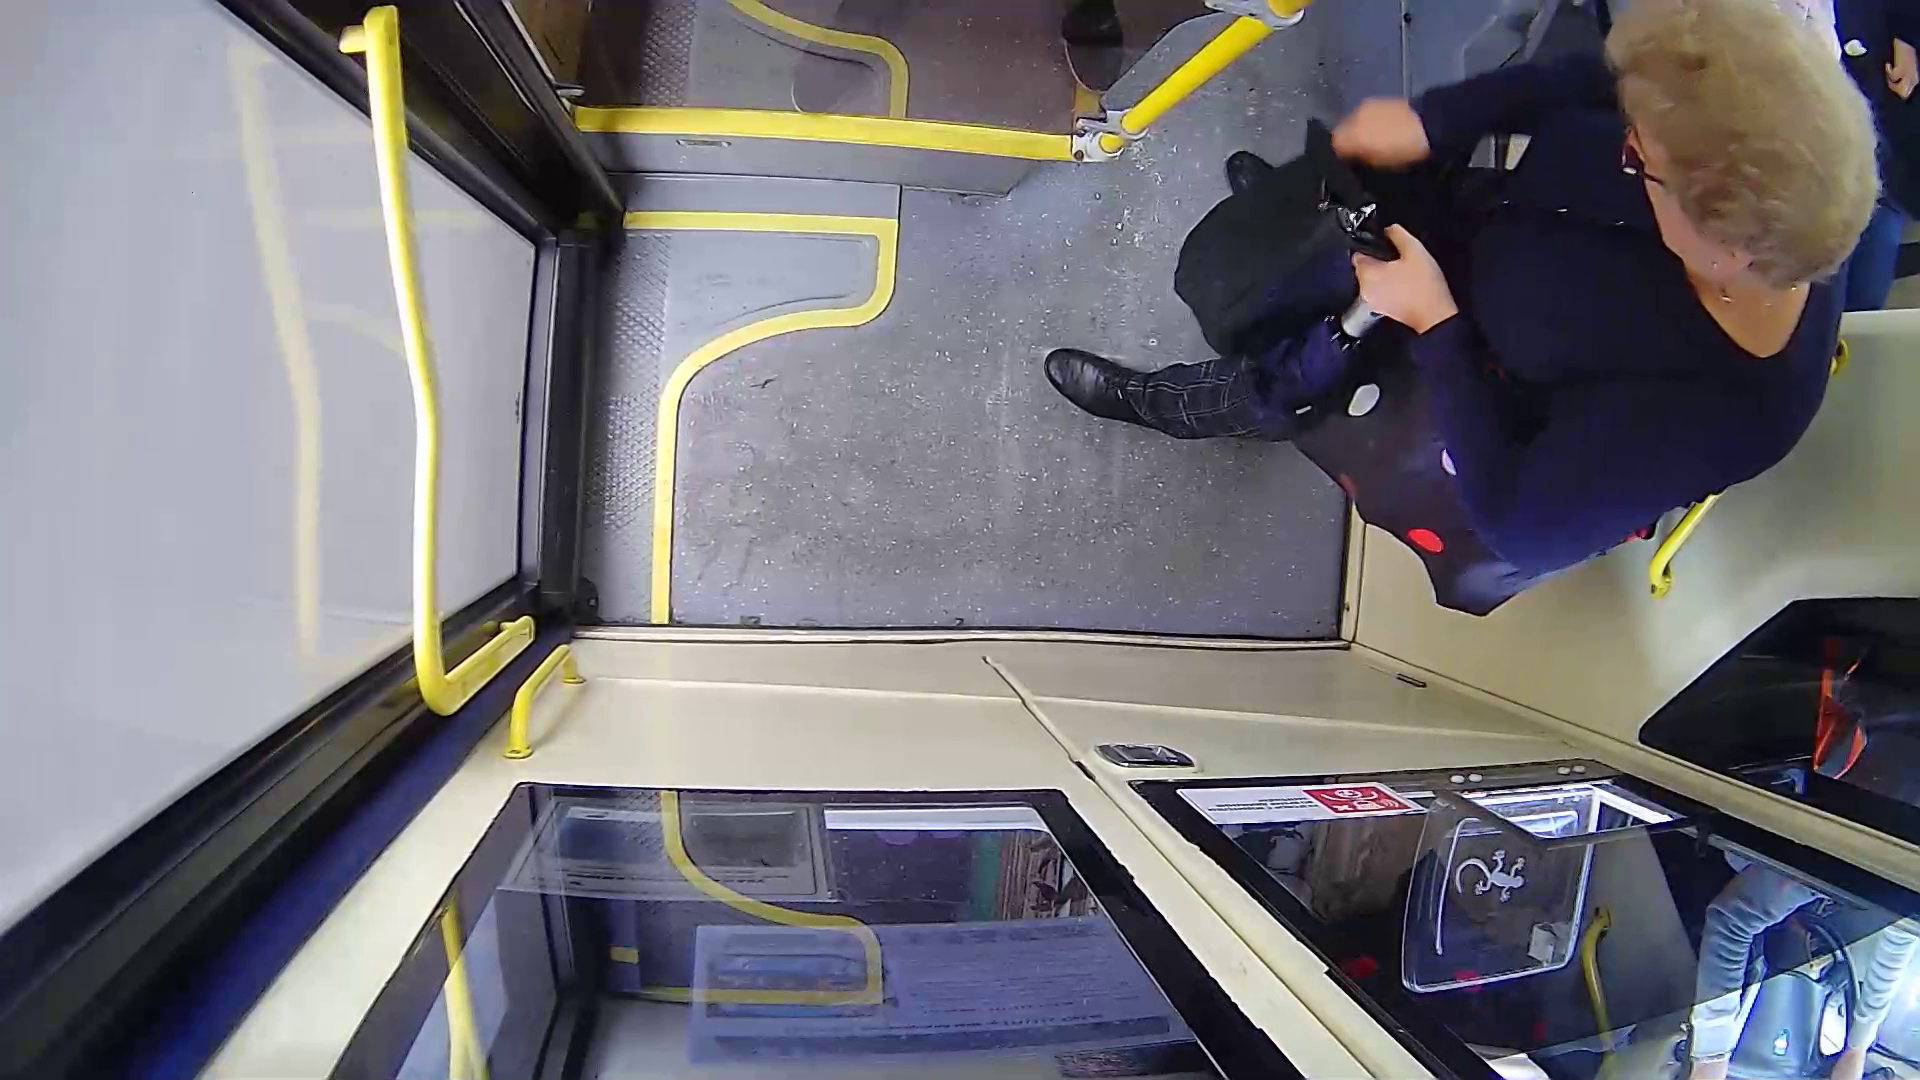person: (1154, 8, 1855, 595)
